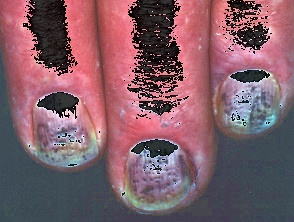Nail_psoriasis: (112, 125, 210, 222), (200, 53, 294, 152), (25, 85, 104, 173)
